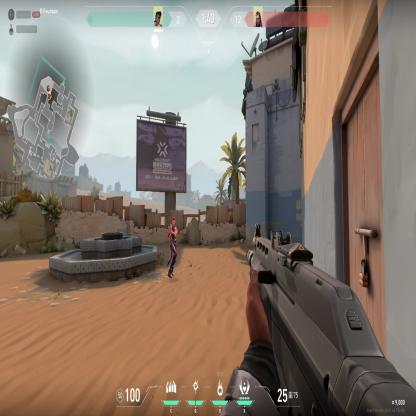enemy: (165, 216, 180, 279)
